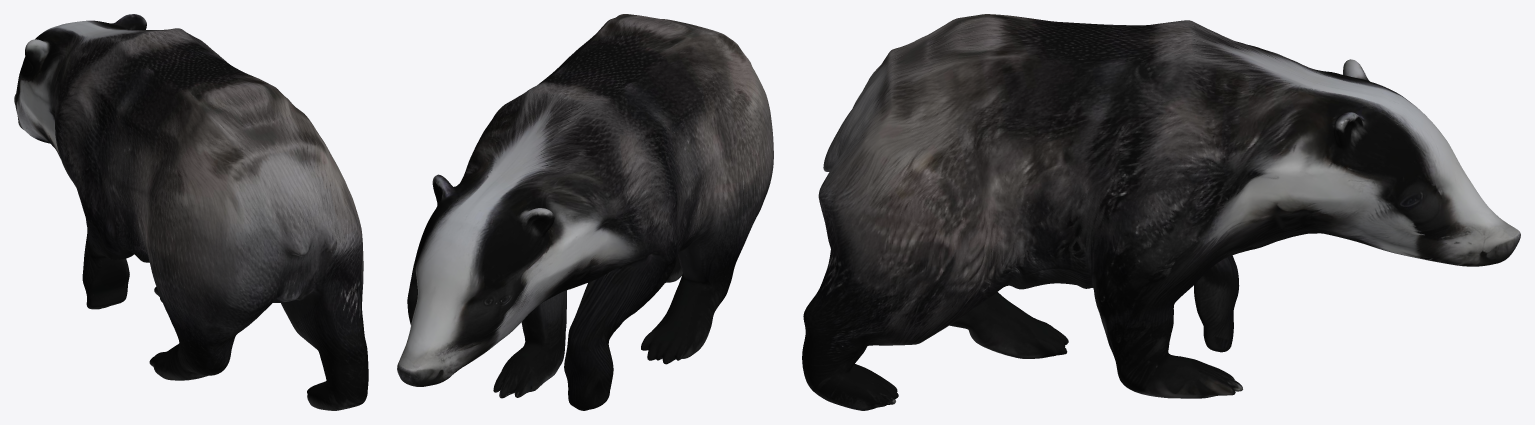
File: badger.glb
The picture shows the model from 3 angles, left to right: view 1: azimuth 30°, elevation 25°; view 2: azimuth 150°, elevation 25°; view 3: azimuth 270°, elevation 25°; orthographic projection. The views are drawn at different scales.
Parts seen in each view (by area): view 1: tripo_node_2797756d-bb36-4735-8f00-b8d00f9f2175; view 2: tripo_node_2797756d-bb36-4735-8f00-b8d00f9f2175; view 3: tripo_node_2797756d-bb36-4735-8f00-b8d00f9f2175.
Boxes of the visible parts, <box> form: tripo_node_2797756d-bb36-4735-8f00-b8d00f9f2175: <box>14,14,368,410</box>; tripo_node_2797756d-bb36-4735-8f00-b8d00f9f2175: <box>397,14,773,410</box>; tripo_node_2797756d-bb36-4735-8f00-b8d00f9f2175: <box>802,14,1520,410</box>.
Size of the model in its own units: 0.3115 by 0.5 by 0.9469.
1 material, 1 textured.
